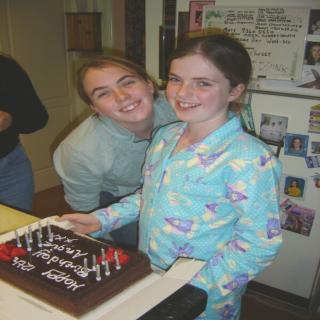Cake: (0, 223, 155, 319)
